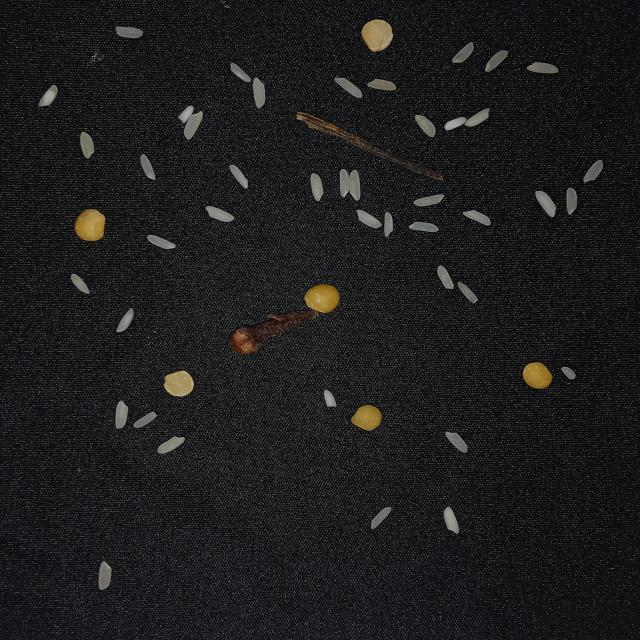Broken: (445, 116, 466, 130), (179, 106, 194, 123), (324, 389, 337, 407), (561, 366, 576, 380)
Full: (334, 77, 362, 99), (535, 190, 557, 218), (184, 111, 204, 140), (157, 435, 185, 454), (414, 114, 436, 138), (464, 108, 491, 127), (445, 431, 468, 453), (485, 50, 508, 72), (370, 507, 392, 529), (357, 209, 382, 228), (205, 206, 234, 222), (457, 282, 478, 304), (452, 42, 474, 63), (583, 160, 603, 183), (437, 265, 455, 290), (230, 164, 248, 189), (463, 210, 491, 226), (38, 85, 58, 107), (116, 308, 134, 332), (140, 154, 156, 181), (444, 506, 459, 534), (134, 411, 158, 428), (147, 235, 176, 249), (414, 194, 445, 207), (231, 62, 251, 82), (80, 131, 94, 159), (310, 173, 324, 201), (115, 400, 128, 430), (253, 77, 265, 109), (71, 274, 90, 294), (115, 26, 144, 39), (526, 62, 559, 73), (99, 561, 111, 590), (367, 79, 397, 90), (350, 170, 361, 200), (566, 188, 578, 215), (339, 169, 350, 198), (409, 222, 439, 232), (384, 212, 394, 237)
